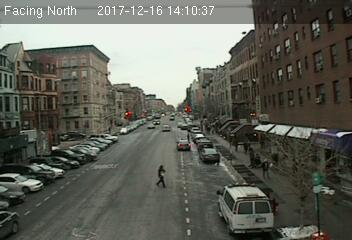car: (199, 147, 221, 163), (175, 138, 192, 152)
pedestrian: (155, 164, 169, 189)
police: (216, 180, 276, 235)
